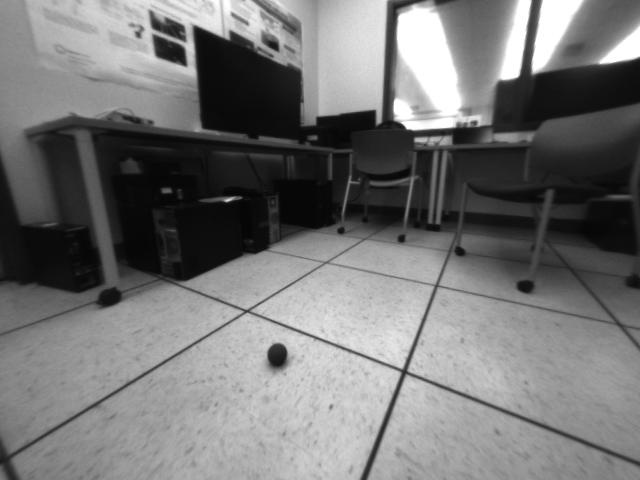dogtoy: (262, 335, 296, 372)
